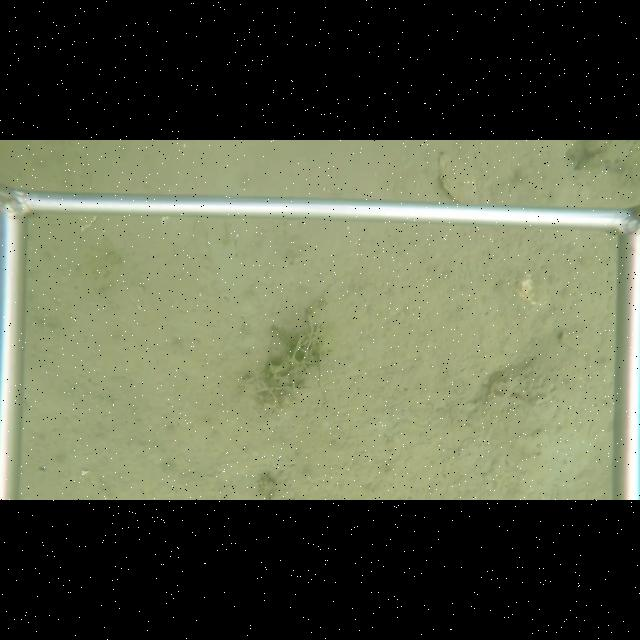Oyster-Closed: (434, 150, 477, 205)
